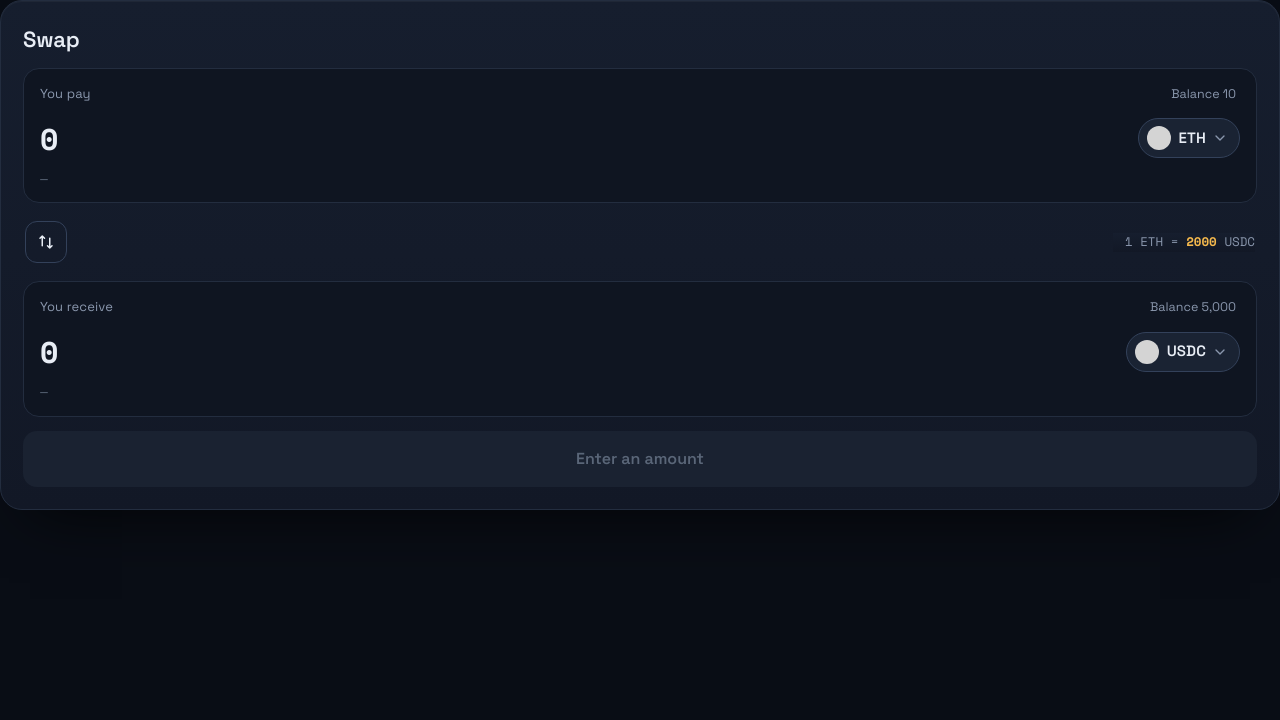
it: SwapCard › submits a valid swap and debits the balance after the delay
The width and height of the screenshot is (1280, 720).
In the field labelled "You pay": [583, 138] box [40,116,1126,161], type "2"
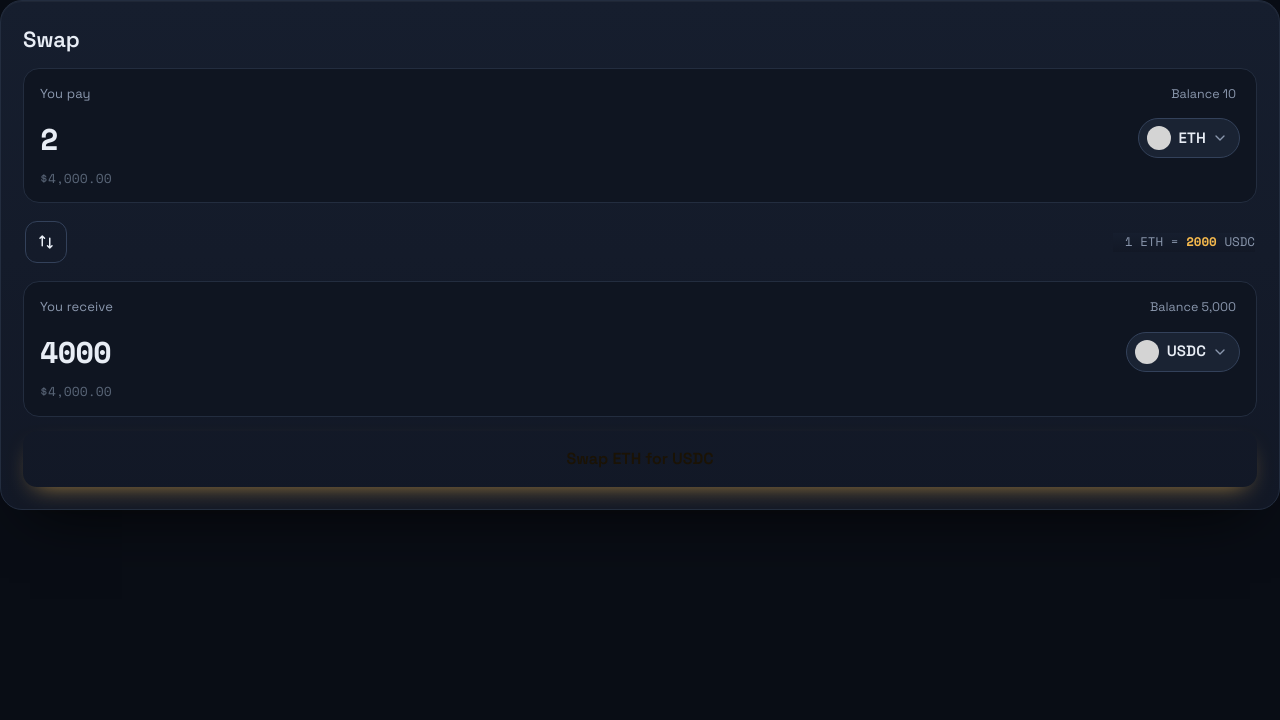
Click the button "Swap ETH for USDC": [640, 458] box [23,430,1257,486]
Wait 1600 ms
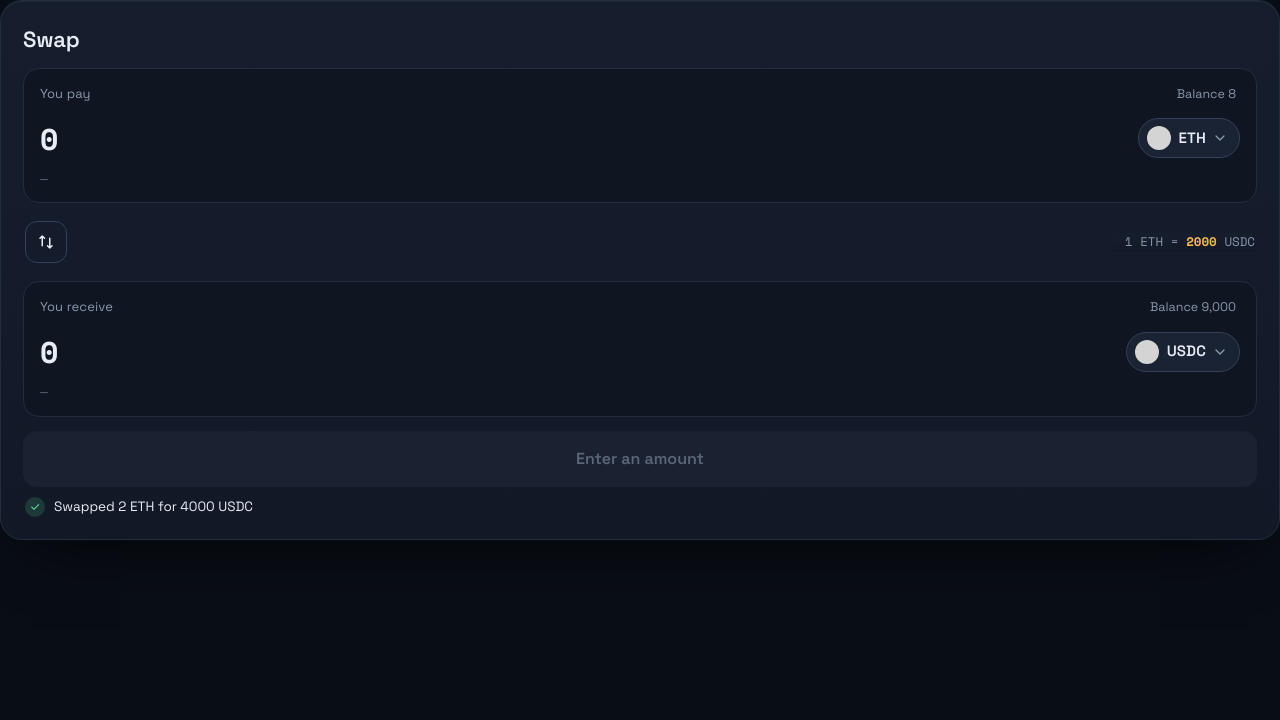
Expected: the message shows "Swapped 2 ETH for 4000 USDC", [54,498,253,514]
Expected: the button "Balance 8" is shown, [1173,83,1240,106]
